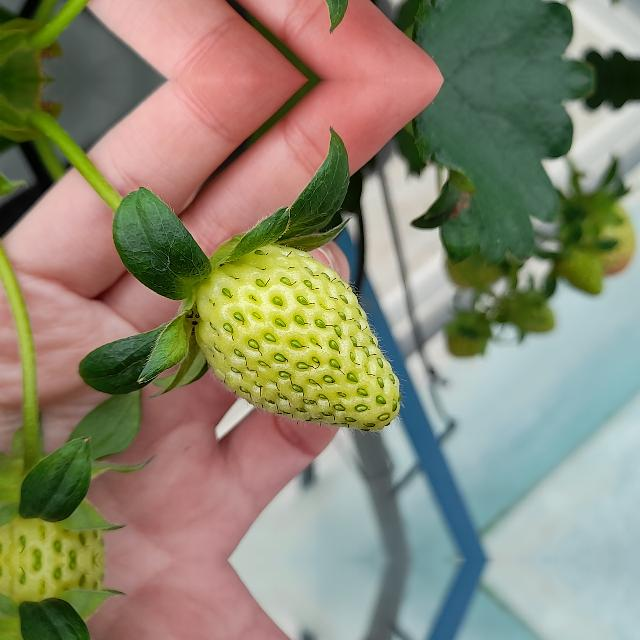Health_25: (194, 243, 400, 431)
